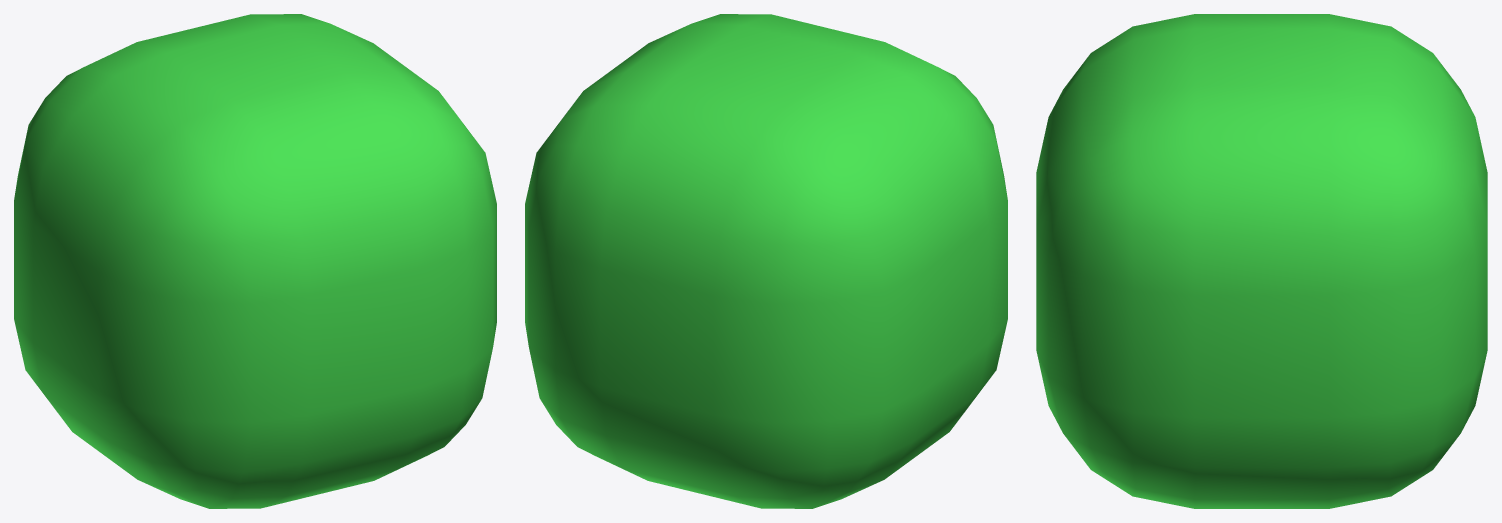
Rendered from Bush.fbx.
The picture shows the model from 3 angles, left to right: view 1: azimuth 30°, elevation 25°; view 2: azimuth 150°, elevation 25°; view 3: azimuth 270°, elevation 25°; orthographic projection. The views are drawn at different scales.
Visible parts, largest first — view 1: Bush; view 2: Bush; view 3: Bush.
Boxes of the visible parts, bbox=[...] form: Bush: bbox=[14, 14, 496, 508]; Bush: bbox=[525, 14, 1007, 508]; Bush: bbox=[1036, 14, 1487, 508].
Size of the model in its own units: 289 by 289 by 289.
